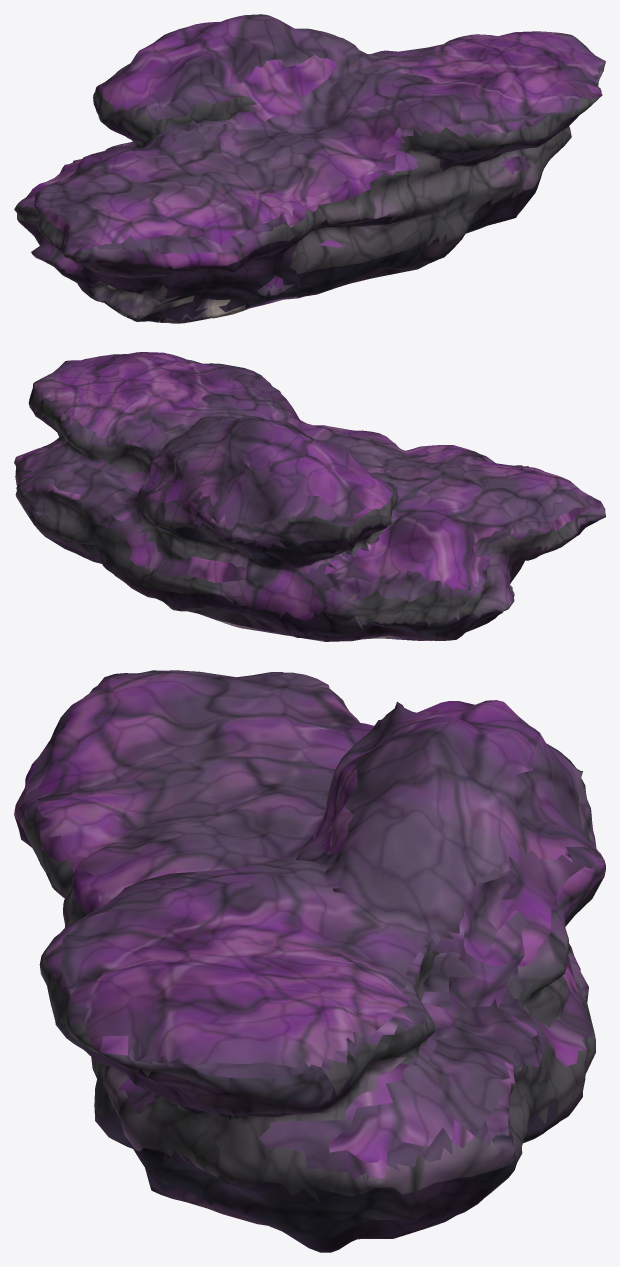
File: reef-nsa-encrusting-ledge.glb
3 renders of one model, top to bottom at view 1: azimuth 30°, elevation 25°; view 2: azimuth 150°, elevation 25°; view 3: azimuth 270°, elevation 25°, orthographic. The views are drawn at different scales.
Visible parts, largest first — view 1: Reef_NSA_Encrusting_Ledge; view 2: Reef_NSA_Encrusting_Ledge; view 3: Reef_NSA_Encrusting_Ledge.
Part boxes in pixels (box(x1,y1,x2,y2)): Reef_NSA_Encrusting_Ledge: box(14, 14, 605, 323); Reef_NSA_Encrusting_Ledge: box(14, 352, 605, 641); Reef_NSA_Encrusting_Ledge: box(14, 670, 605, 1252).
Size of the model in its own units: 0.6908 by 0.2486 by 0.3702.
1 material, 1 textured.
